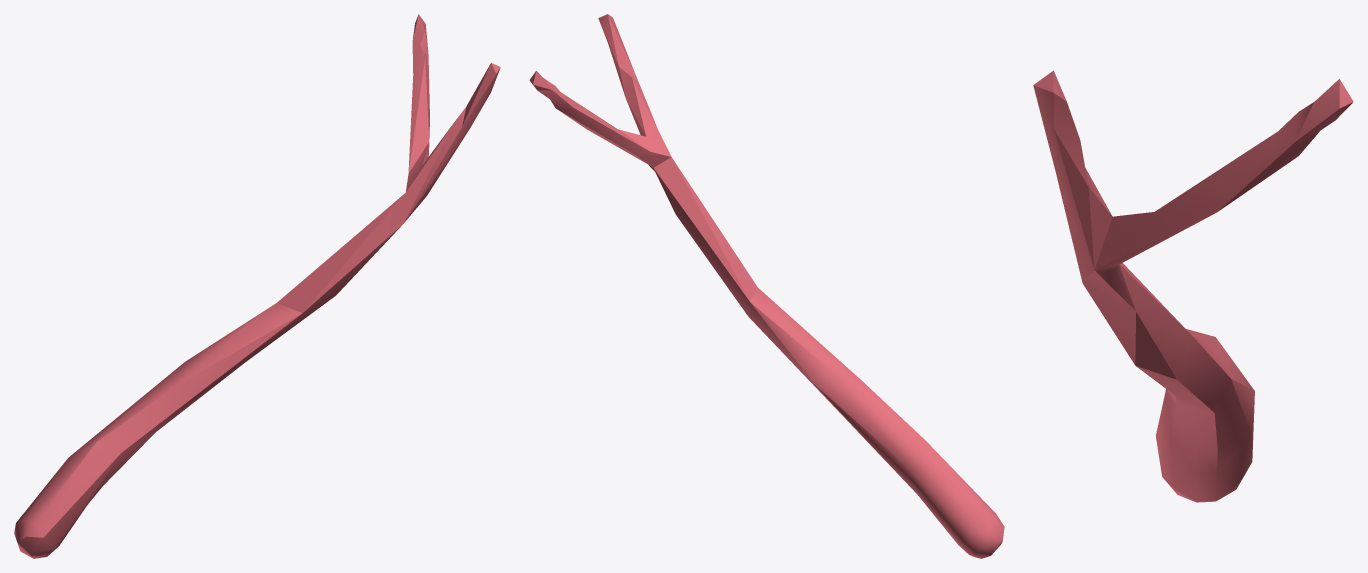
The model's file is fma50428_fj1679.glb.
3 views of the same model, side by side, from view 1: azimuth 30°, elevation 25°; view 2: azimuth 150°, elevation 25°; view 3: azimuth 270°, elevation 25° (orthographic). The views are drawn at different scales.
Parts seen in each view (by area): view 1: FMA50428_FJ1679; view 2: FMA50428_FJ1679; view 3: FMA50428_FJ1679.
Boxes of the visible parts, x1,y1,x2,y2 form: FMA50428_FJ1679: (14,14,500,558); FMA50428_FJ1679: (529,14,1004,558); FMA50428_FJ1679: (1033,70,1353,502).
Size of the model in its own units: 0.00997 by 0.00896 by 0.00314.
